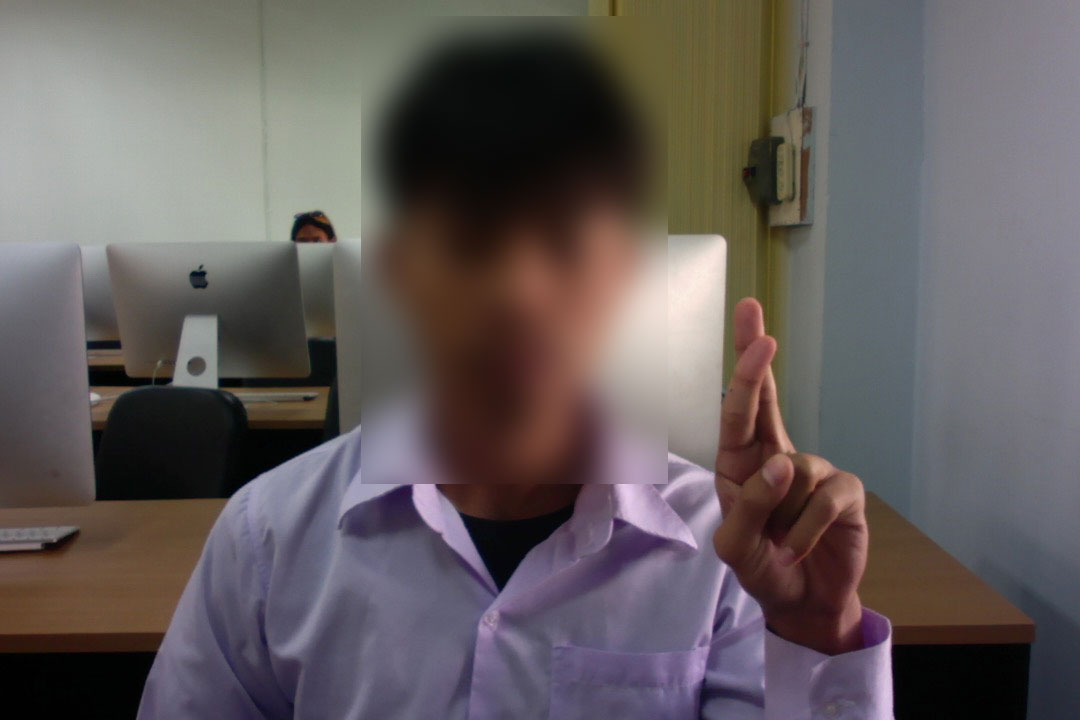rao: (707, 290, 880, 616)
